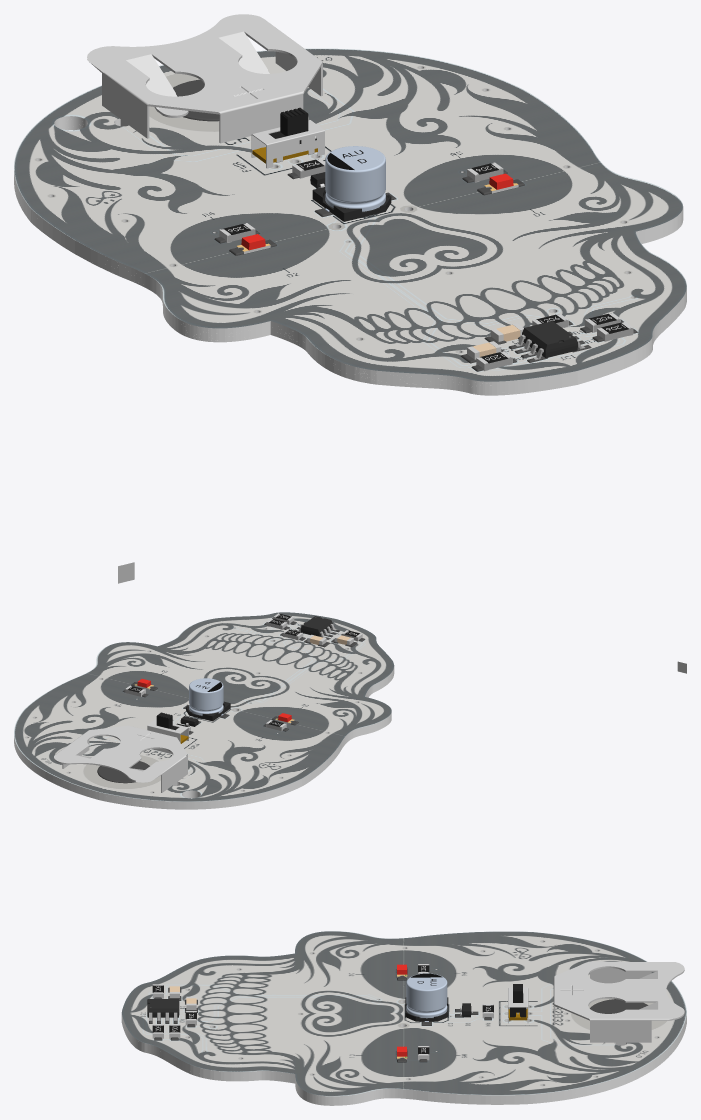
The model's file is drawdio.dae.
The picture shows the model from 3 angles, top to bottom: view 1: azimuth 30°, elevation 25°; view 2: azimuth 150°, elevation 25°; view 3: azimuth 270°, elevation 25°; orthographic projection. The views are drawn at different scales.
Visible parts, largest first — view 1: PCB, KEYSTONE_3003, ELKO-ALU-D, User_Library-SLB12814, STL_STL_STL_SOIC8-N_MC; view 2: PCB, KEYSTONE_3003, ELKO-ALU-D, User_Library-SLB12814, STL_STL_STL_SOIC8-N_MC, CR2032; view 3: PCB, KEYSTONE_3003, ELKO-ALU-D, User_Library-SLB12814, STL_STL_STL_SOIC8-N_MC, CR2032.
Boxes of the visible parts, box(x1,y1,x2,y2) form: PCB: box(14, 48, 686, 395); KEYSTONE_3003: box(87, 14, 322, 143); ELKO-ALU-D: box(312, 146, 391, 221); User_Library-SLB12814: box(251, 107, 324, 168); STL_STL_STL_SOIC8-N_MC: box(514, 321, 585, 360); PCB: box(14, 612, 394, 809); KEYSTONE_3003: box(54, 725, 187, 792); ELKO-ALU-D: box(186, 678, 230, 721); User_Library-SLB12814: box(147, 712, 188, 743); STL_STL_STL_SOIC8-N_MC: box(297, 616, 336, 637); CR2032: box(97, 761, 149, 783); PCB: box(121, 931, 686, 1105); KEYSTONE_3003: box(553, 961, 684, 1045); ELKO-ALU-D: box(405, 973, 448, 1021); User_Library-SLB12814: box(508, 984, 528, 1023); STL_STL_STL_SOIC8-N_MC: box(147, 999, 179, 1020); CR2032: box(590, 999, 648, 1013).
Size of the model in its own units: 95.01 by 8.23 by 103.
